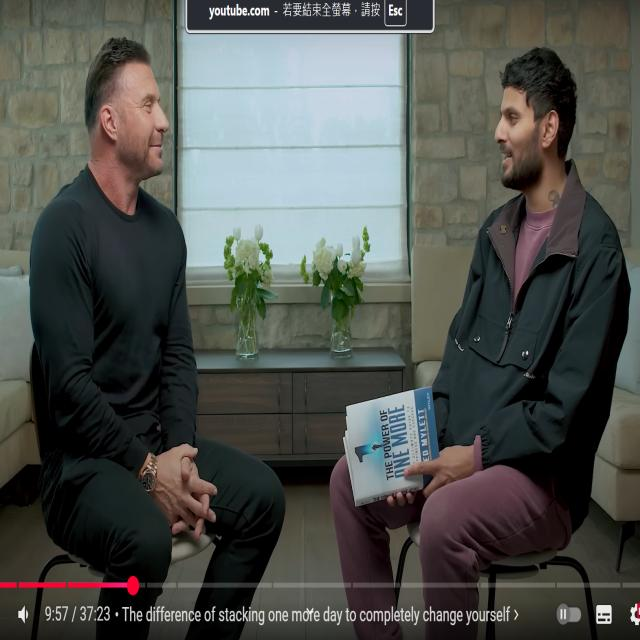sit: (346, 31, 622, 634), (36, 37, 287, 627)
